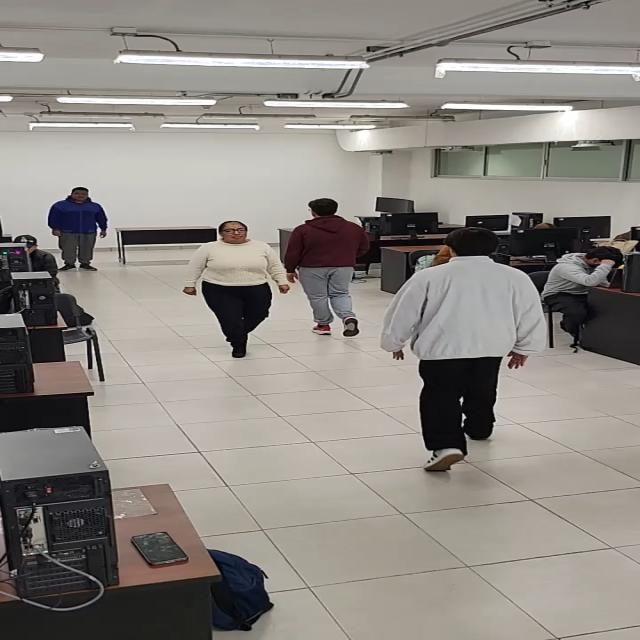Persona: (377, 226, 548, 471), (182, 220, 292, 359), (282, 198, 372, 338), (48, 187, 108, 272)
